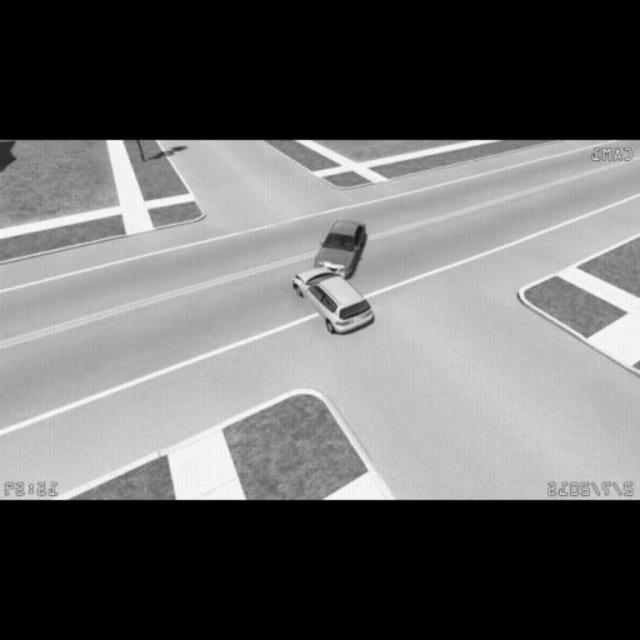accident: (295, 212, 373, 336)
